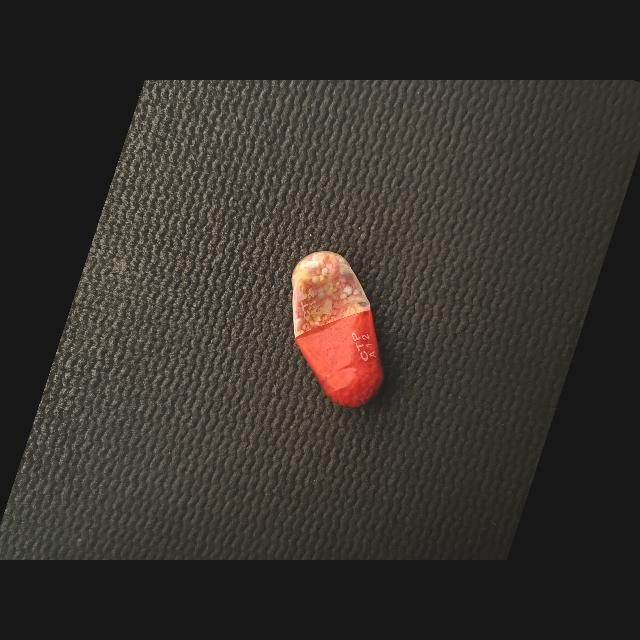Defective Capsule: (292, 251, 384, 407)
